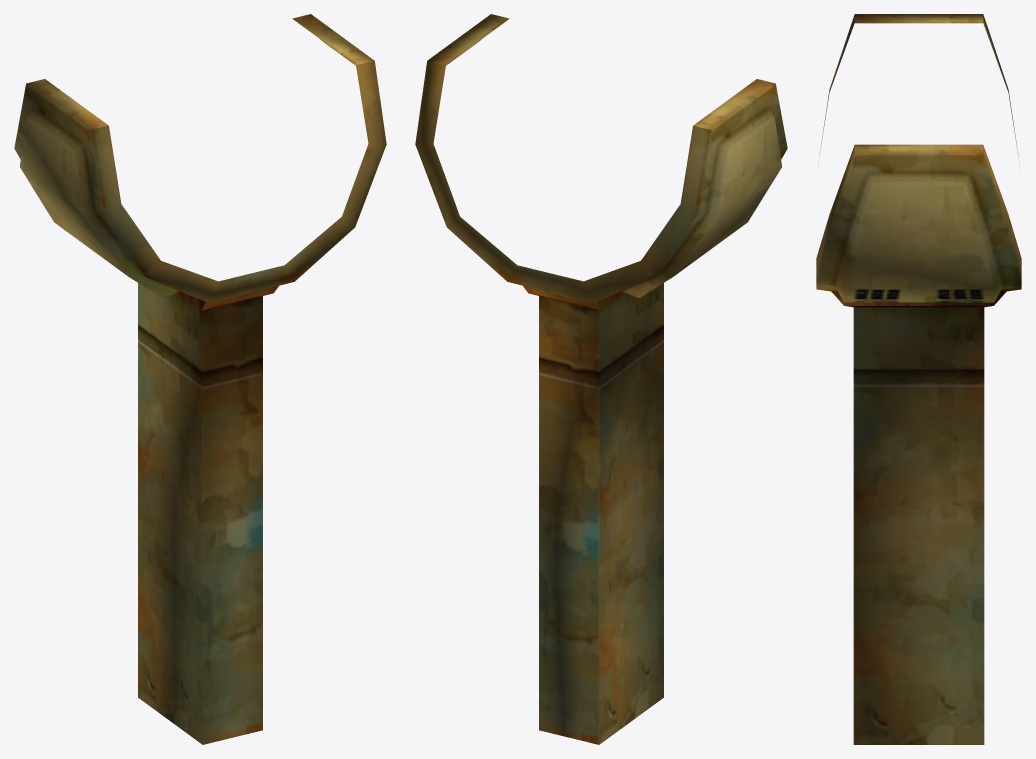
The model's file is hut_item_pipe_support.glb.
The picture shows the model from 3 angles, left to right: view 1: azimuth 30°, elevation 25°; view 2: azimuth 150°, elevation 25°; view 3: azimuth 270°, elevation 25°; orthographic projection.
Visible parts, largest first — view 1: hut_item_pipe_support; view 2: hut_item_pipe_support; view 3: hut_item_pipe_support.
Boxes of the visible parts, x1,y1,x2,y2 form: hut_item_pipe_support: (14,14,386,744); hut_item_pipe_support: (415,14,787,744); hut_item_pipe_support: (816,14,1021,744).
Bounding box in the file's own units: 0.2446 × 0.4972 × 0.1432.
1 material, 1 textured.
